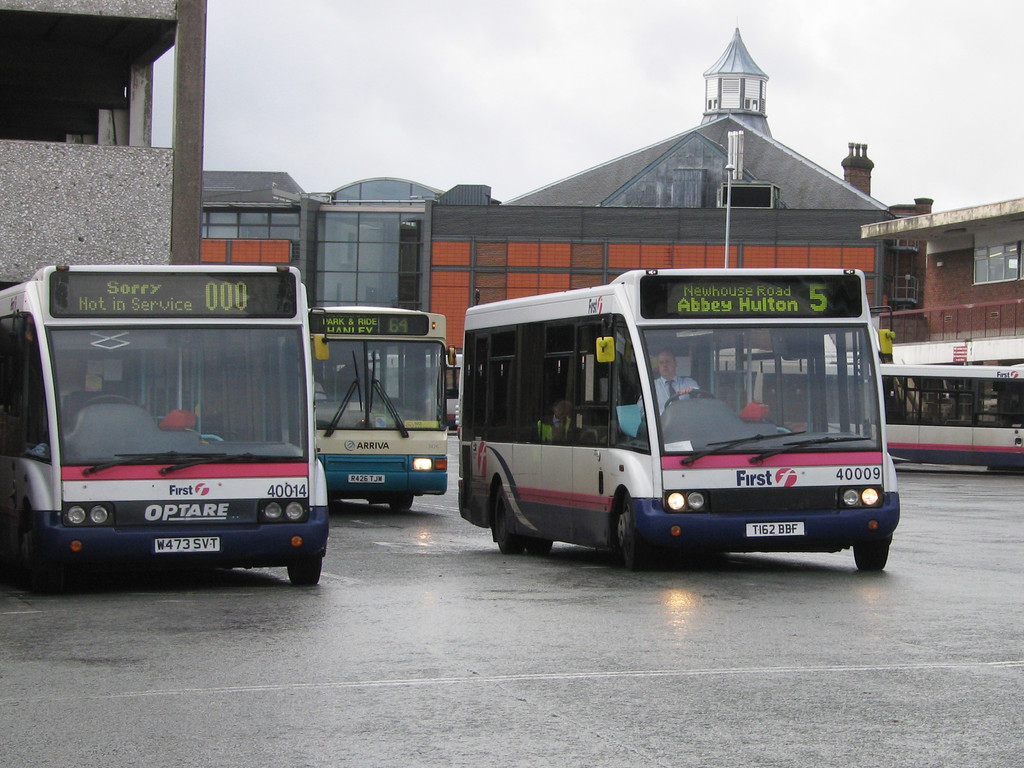Bus: (0, 263, 1023, 584)
